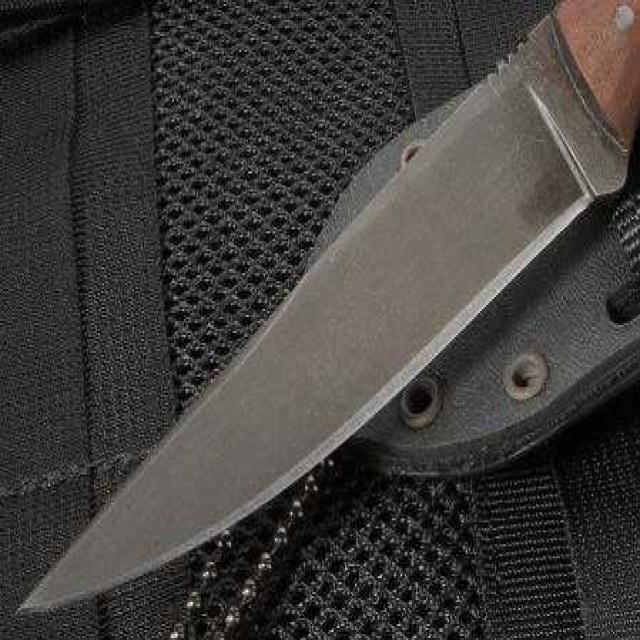Knife: (8, 0, 640, 624)
